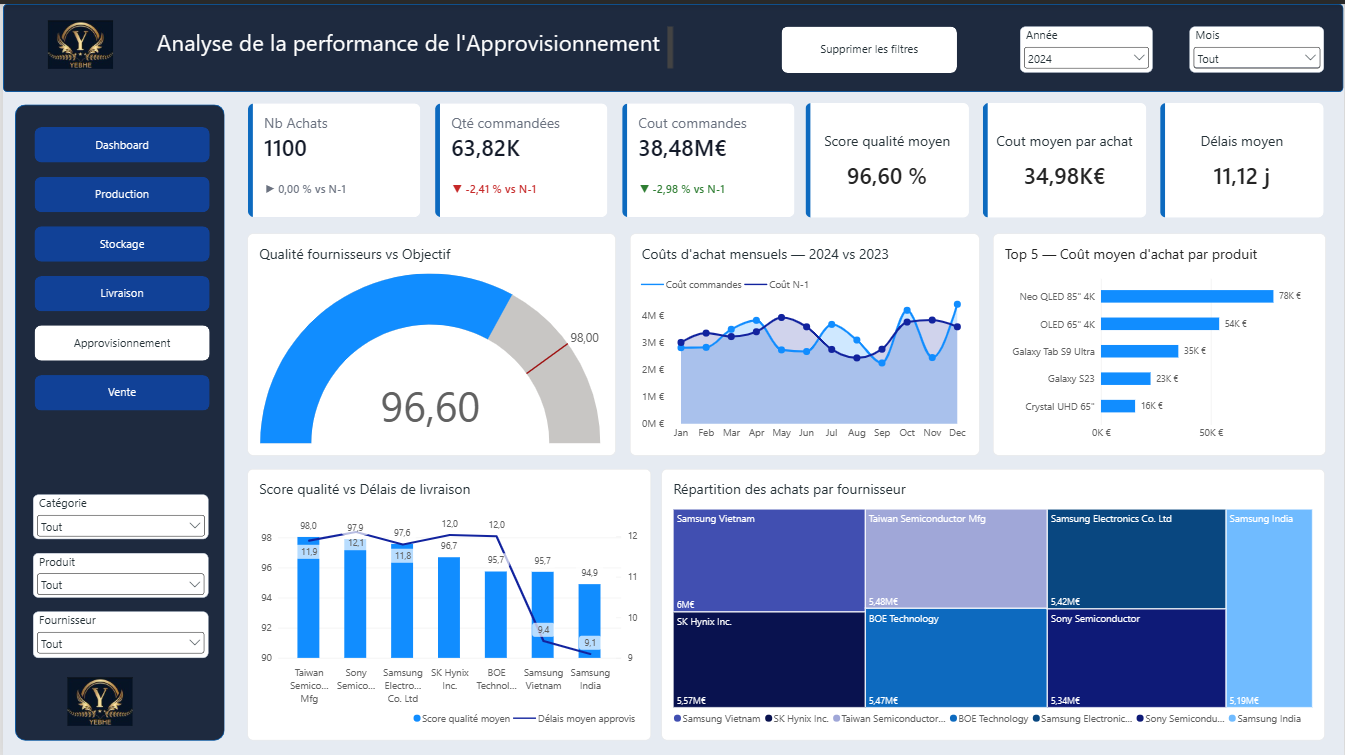

The page's visual inventory and layout, read from the dashboard file:
{"tool":"powerbi","page":{"name":"Approvisionnement","canvas":[1920,1080],"ordinal":4},"visuals":[{"type":"shape","box":[18,143.7,300.3,911.2],"z":0},{"type":"clusteredBarChart","title":"Top 5 — Coût moyen d''achat par produit","fields":{"Category":["dim_product.product_name"],"Y":["_Mesures.Cout moyen par Achat"]},"box":[1418.1,328.7,477,318],"z":1000},{"type":"cardVisual","fields":{"Data":["_Mesures.Nb Achats","_Mesures.Qté commandées","_Mesures.Cout commandes"]},"box":[349.7,141.6,786.1,164.7],"z":2000},{"type":"lineChart","title":"Coûts d''achat mensuels — 2024 vs 2023","fields":{"Category":["dim_date.year Hierarchy.month_name"],"Y":["_Mesures.Cout commandes","_Mesures.Cout commandes LY"]},"box":[898.1,328.7,500.6,318],"z":3000},{"type":"shape","box":[0,0,1920,126],"z":4000},{"type":"gauge","title":"Qualité fournisseurs vs Objectif","fields":{"Y":["_Mesures.Score qualité moyen"]},"box":[349.7,329.5,527.3,318.2],"z":5000},{"type":"slicer","fields":{"Values":["dim_date.year Hierarchy.month_name"]},"box":[1700.6,31.7,192.7,65.9],"z":6000},{"type":"slicer","fields":{"Values":["dim_date.year Hierarchy.year"]},"box":[1456.5,31.7,190.3,65.9],"z":7000},{"type":"textbox","box":[208.1,31.8,751.4,60.7],"z":8000},{"type":"image","box":[43.9,24.4,136,69.3],"z":9000},{"type":"image","box":[71.9,965.1,136,69.3],"z":10000},{"type":"slicer","fields":{"Values":["dim_product.category"]},"box":[42.7,703.2,251.5,64.2],"z":11000},{"type":"slicer","fields":{"Values":["dim_product.product_name"]},"box":[42.7,786.9,251,64.1],"z":12000},{"type":"slicer","fields":{"Values":["dim_supplier.supplier_name"]},"box":[42.7,870.5,251,66.8],"z":13000},{"type":"actionButton","box":[1115.1,32.2,251.4,66.6],"z":14000},{"type":"lineClusteredColumnComboChart","title":"Score qualité vs Délais de livraison","fields":{"Category":["dim_supplier.supplier_name"],"Y":["_Mesures.Score qualité moyen"],"Y2":["_Mesures.Délais moyen approvis"]},"box":[350.2,666.1,578,388.9],"z":16000},{"type":"treemap","title":"Répartition des achats par fournisseur","fields":{"Group":["dim_supplier.supplier_name"],"Values":["_Mesures.Cout commandes"]},"box":[943.2,666.1,949.7,388.9],"z":17000},{"type":"cardVisual","fields":{"Data":["_Mesures.Score qualité moyen Texte","_Mesures.Cout moyen par Achat Texte","_Mesures.Délais moyen approvis Texte"]},"box":[1150.3,141.6,742.8,164.7],"z":18000},{"type":"pageNavigator","box":[45.1,176.2,251.4,406.1],"z":19000}]}

Visuals, with their boxes in screenshot pixels (x1, y1, x2, y2), scaled from the page's 1920x1080 canvas onto the 1345x755 screenshot:
shape: crop(13, 100, 223, 737)
"Top 5 — Coût moyen d''achat par produit" clusteredBarChart: crop(993, 230, 1328, 452)
cardVisual - _Mesures.Nb Achats x _Mesures.Qté commandées: crop(245, 99, 796, 214)
"Coûts d''achat mensuels — 2024 vs 2023" lineChart: crop(629, 230, 980, 452)
shape: crop(0, 0, 1344, 88)
"Qualité fournisseurs vs Objectif" gauge: crop(245, 230, 614, 453)
slicer - dim_date.year Hierarchy.month_name: crop(1191, 22, 1326, 68)
slicer - dim_date.year Hierarchy.year: crop(1020, 22, 1154, 68)
textbox: crop(146, 22, 672, 65)
image: crop(31, 17, 126, 66)
image: crop(50, 675, 146, 723)
slicer - dim_product.category: crop(30, 492, 206, 536)
slicer - dim_product.product_name: crop(30, 550, 206, 595)
slicer - dim_supplier.supplier_name: crop(30, 609, 206, 655)
actionButton: crop(781, 23, 957, 69)
"Score qualité vs Délais de livraison" lineClusteredColumnComboChart: crop(245, 466, 650, 738)
"Répartition des achats par fournisseur" treemap: crop(661, 466, 1326, 738)
cardVisual - _Mesures.Score qualité moyen Texte x _Mesures.Cout moyen par Achat Texte: crop(806, 99, 1326, 214)
pageNavigator: crop(32, 123, 208, 407)
